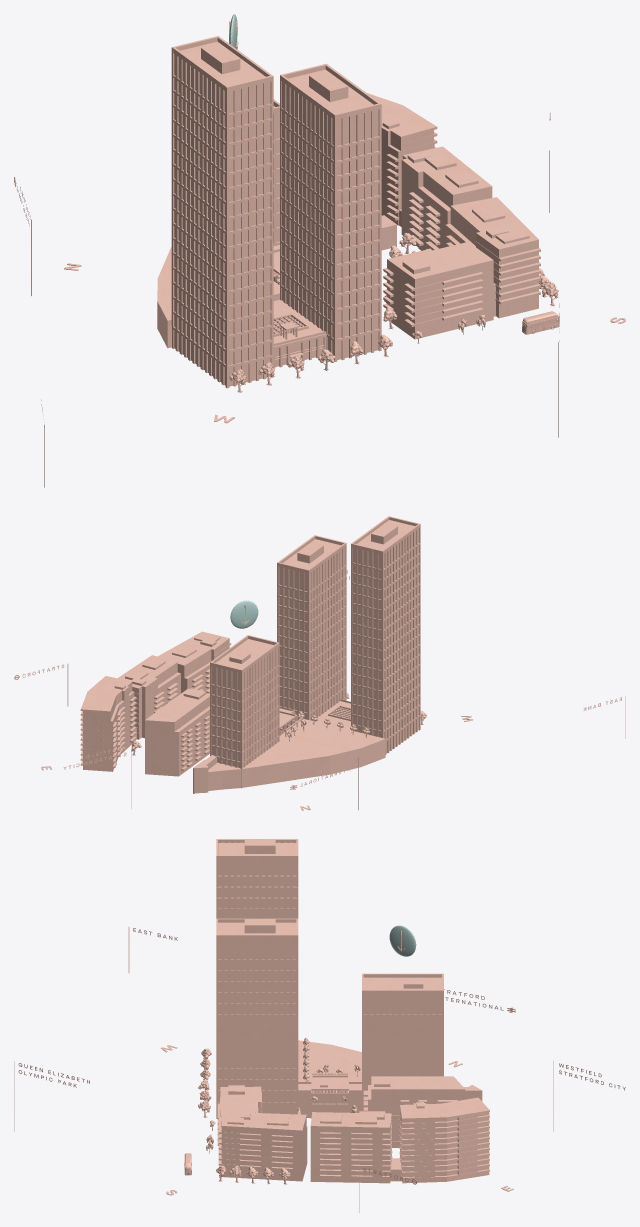
File: CMS16.gltf
The picture shows the model from 3 angles, top to bottom: view 1: azimuth 30°, elevation 25°; view 2: azimuth 150°, elevation 25°; view 3: azimuth 270°, elevation 25°; orthographic projection. The views are drawn at different scales.
Parts seen in each view (by area): view 1: Xavier, Bussell, Hows, Sandhu, Bulk, Harrison, Bus; view 2: Xavier, Bussell, Harrison, Bulk, Sandhu, Aarons, Hows, Arrow; view 3: Bussell, Sandhu, Harrison, Hows, Xavier, Bulk, Aarons, Arrow.
Boxes of the visible parts, x1,y1,x2,y2 form: Xavier: (171,36,273,388); Bussell: (280,63,381,361); Hows: (383,197,540,339); Sandhu: (367,93,492,250); Bulk: (31,150,625,487); Harrison: (273,99,279,246); Bus: (522,311,559,334); Xavier: (351,516,420,754); Bussell: (277,535,346,720); Harrison: (193,635,279,793); Bulk: (41,664,625,810); Sandhu: (80,655,180,771); Aarons: (145,688,209,776); Hows: (157,631,231,693); Arrow: (230,600,258,628); Bussell: (216,918,298,1118); Sandhu: (310,1097,489,1183); Harrison: (362,973,482,1111); Hows: (217,1085,307,1181); Xavier: (216,839,298,918); Bulk: (14,927,553,1212); Aarons: (363,1076,465,1147); Arrow: (389,925,416,956).
Bounding box in the file's own units: 308 × 129 × 313.
Materials: 2 (1 with a texture image).
